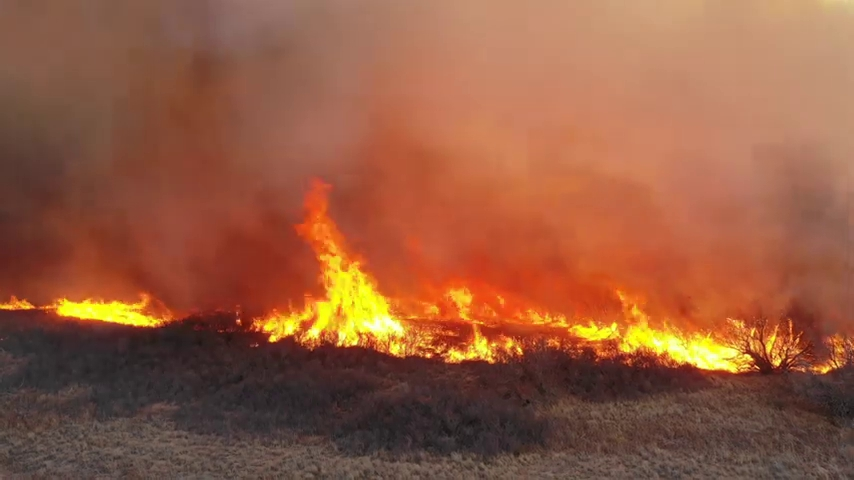forest_fire: (251, 180, 749, 371), (725, 317, 853, 373), (1, 294, 177, 326), (729, 320, 749, 335), (770, 335, 773, 341), (820, 366, 825, 369)
